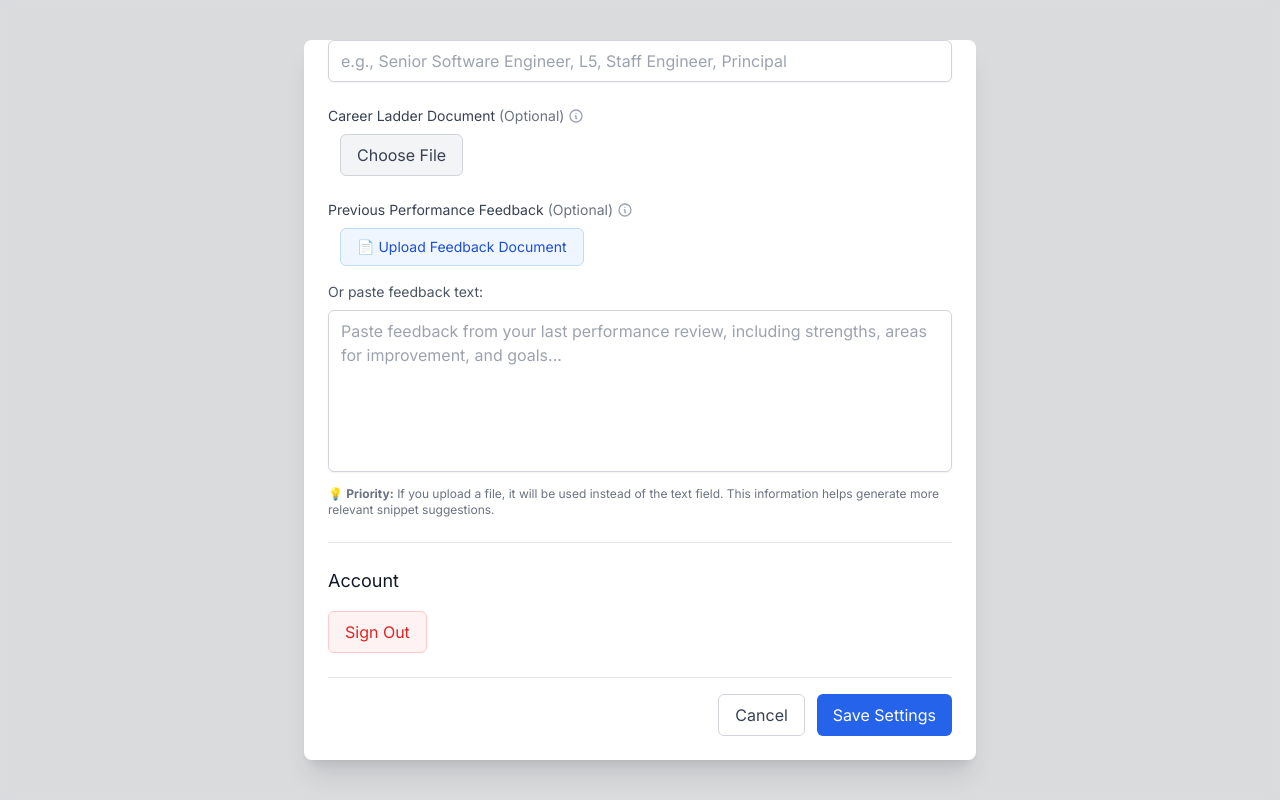
Scenario: Settings Component › Form Validation › should clear validation errors when user types
(page scrolled)
// Trigger validation errors
Click the button "Save Settings" at (884, 715), box [817, 694, 952, 736]
(page scrolled)
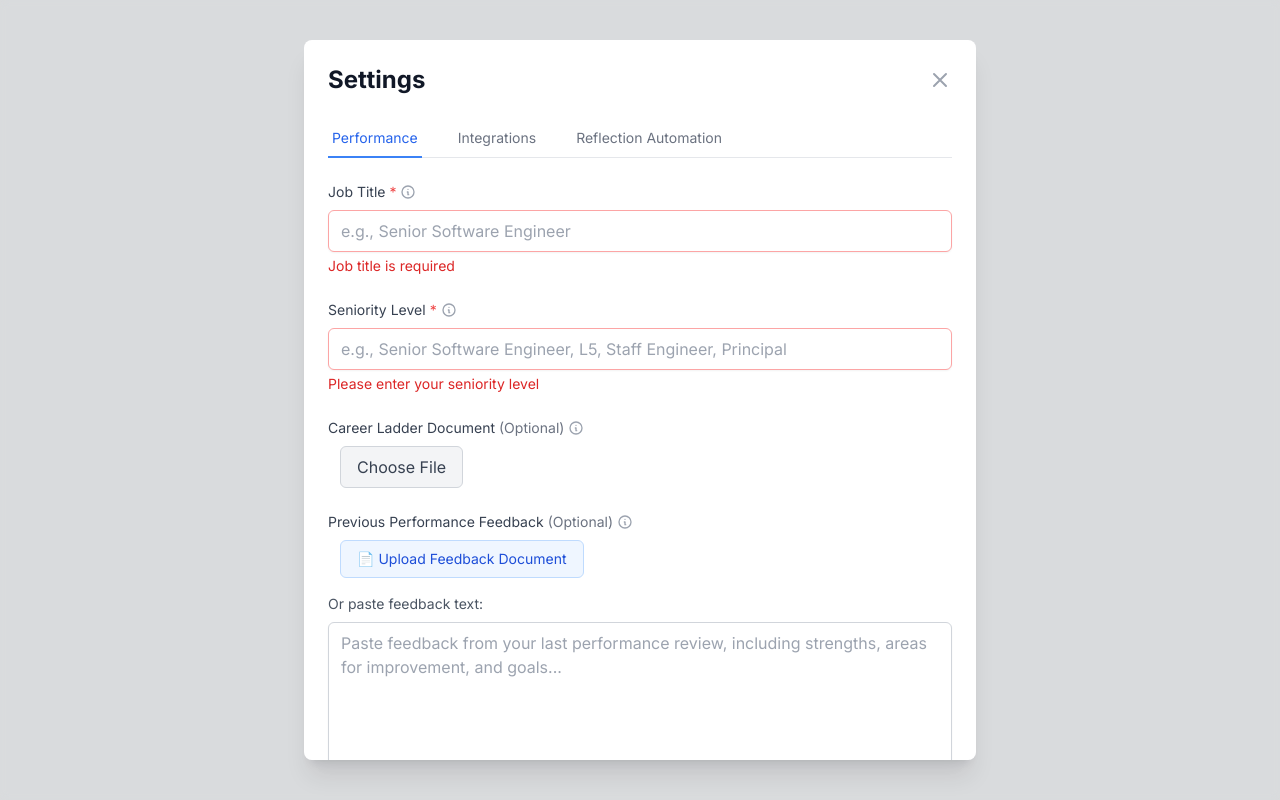
Expected: the text "Job title is required" is shown, [328, 257, 455, 274]
// Type in job title field
Type "Developer" into the field labelled "Job Title *" at (640, 231), box [328, 210, 952, 252]
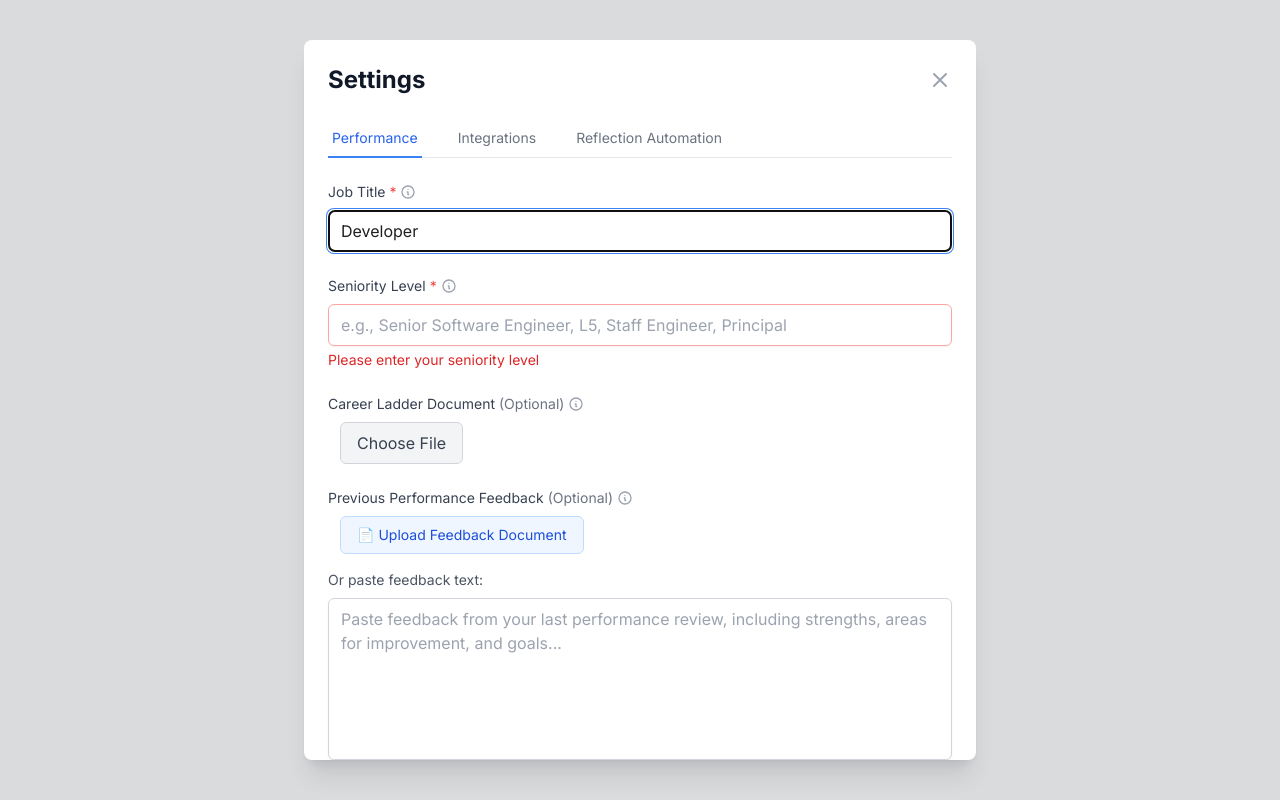
Expected: the text "Job title is required" is gone
